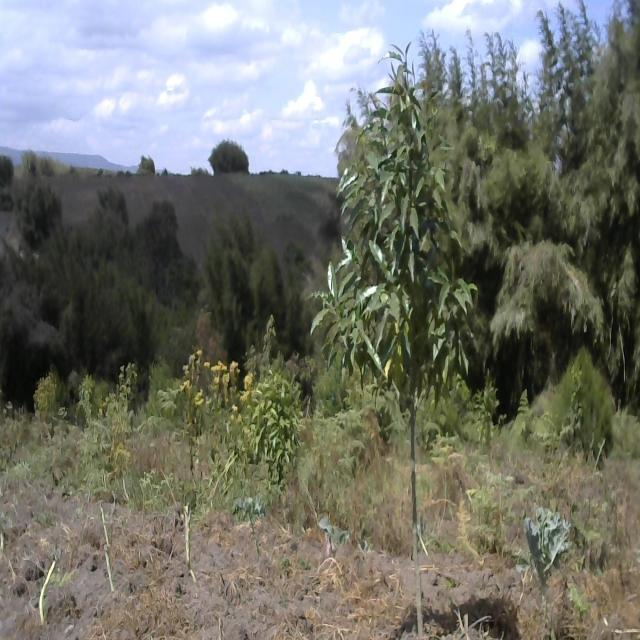Olea welwitchii: (308, 41, 479, 640)
